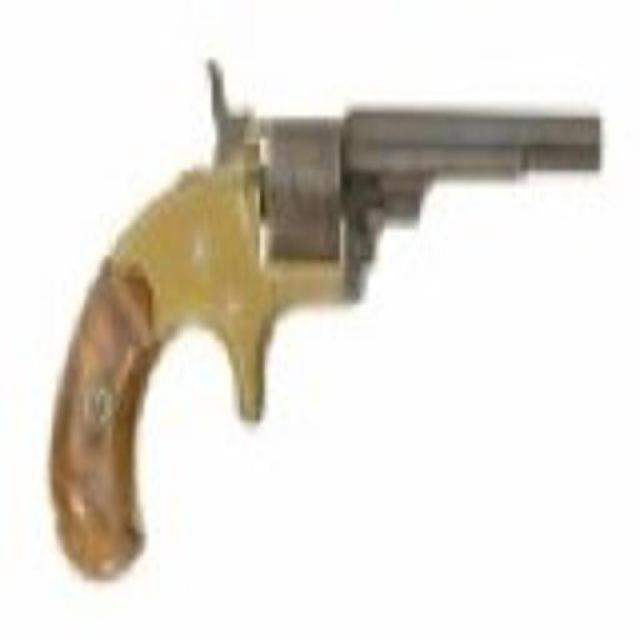pistol: (55, 57, 604, 581)
